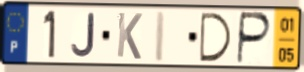1: (41, 10, 57, 60)
D: (198, 11, 234, 64)
I: (152, 10, 168, 64)
J: (69, 11, 96, 59)
K: (115, 11, 144, 62)
P: (235, 10, 274, 66)
